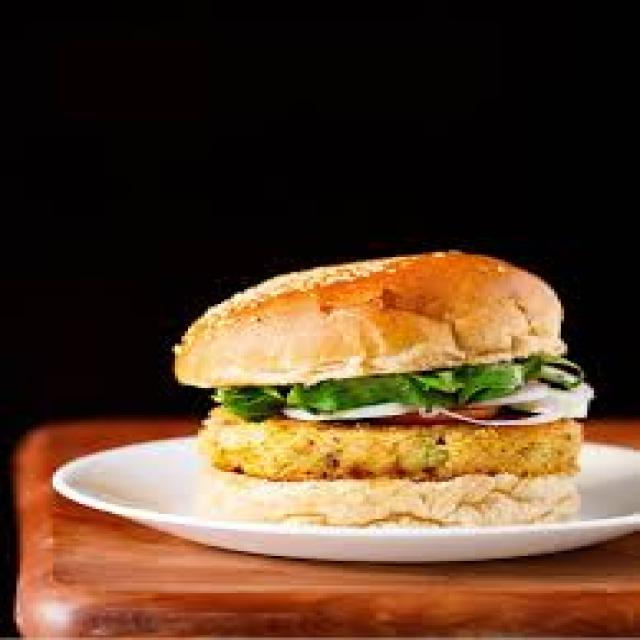Wet Waste: (127, 225, 640, 582)
